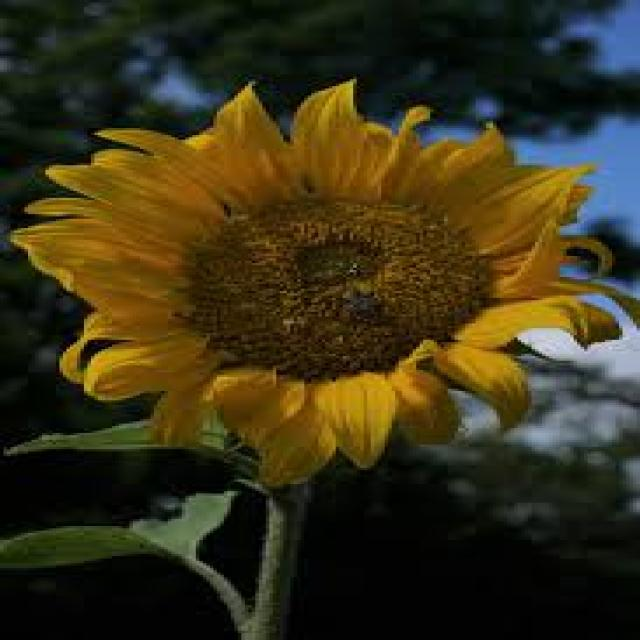sunflower: (3, 69, 640, 495)
